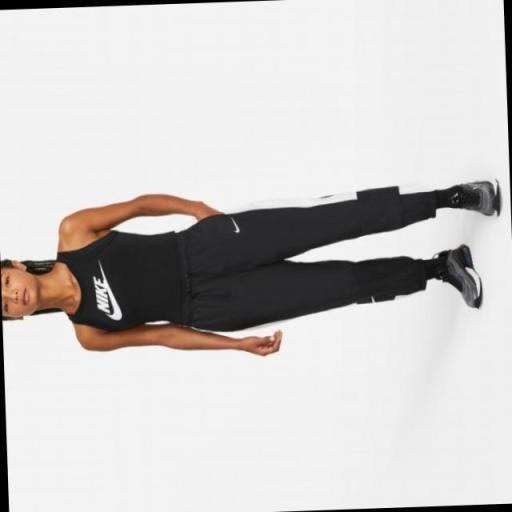Nike: (100, 263, 123, 322), (92, 274, 110, 314)
